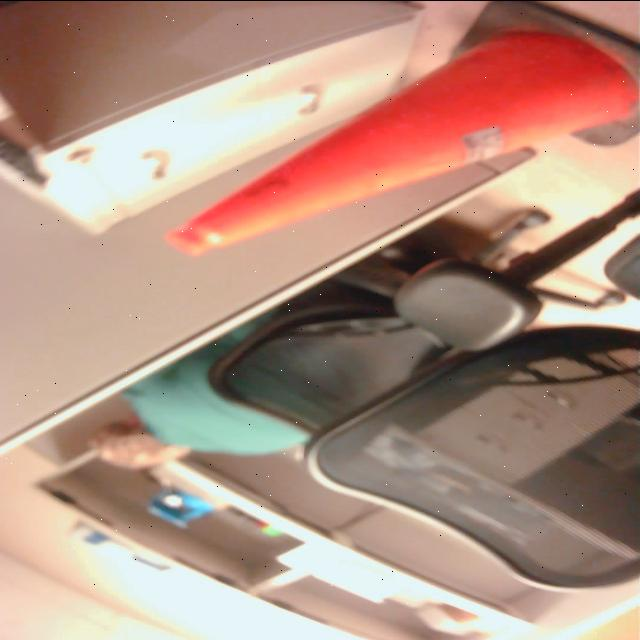traffic cone: (154, 2, 640, 262)
